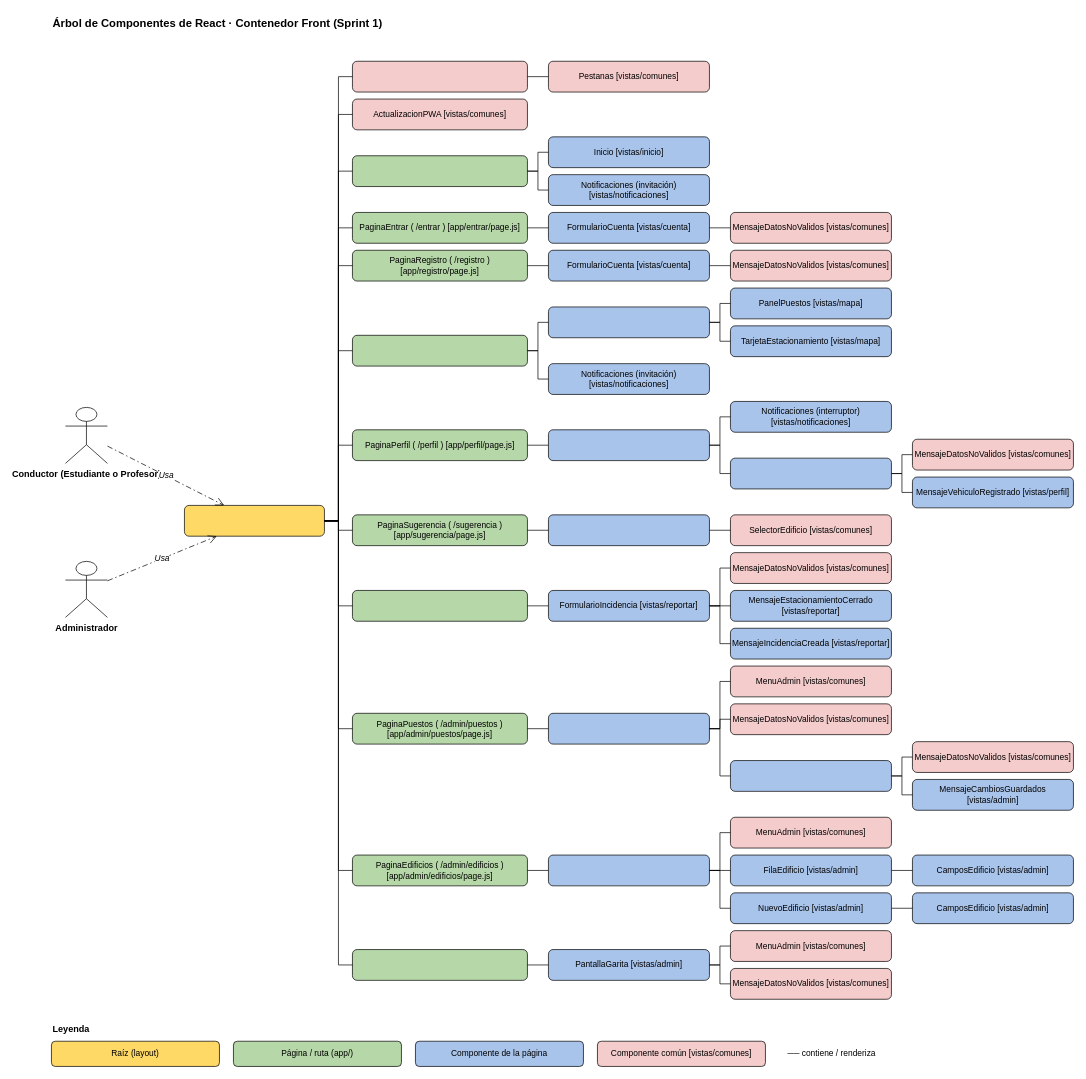
The diagram is 1086 pixels wide and 1079 high, and some of its shapes have lost their labels. The shapes that lost their labels are listed below. From the top down, each one's centre as x and y in pixels, then its label:
At point (439, 76): "MenuPrincipal [vistas/comunes]".
At point (439, 171): "PaginaInicio ( / ) [app/page.js]".
At point (628, 322): "MaquetaCampus [vistas/mapa]".
At point (439, 350): "PaginaMapa ( /mapa ) [app/mapa/page.js]".
At point (628, 445): "PantallaPerfil [vistas/perfil]".
At point (810, 473): "FormularioVehiculo [vistas/perfil]".
At point (254, 520): "RootLayout [app/layout.js]".
At point (628, 530): "BuscadorSugerencia [vistas/sugerencia]".
At point (439, 605): "PaginaReportar ( /reportar ) [app/reportar/page.js]".
At point (628, 728): "PantallaPuestos [vistas/admin]".
At point (810, 775): "FilaPuesto [vistas/admin]".
At point (628, 870): "PantallaEdificios [vistas/admin]".
At point (439, 964): "PaginaGarita ( /admin/garita ) [app/admin/garita/page.js]".
